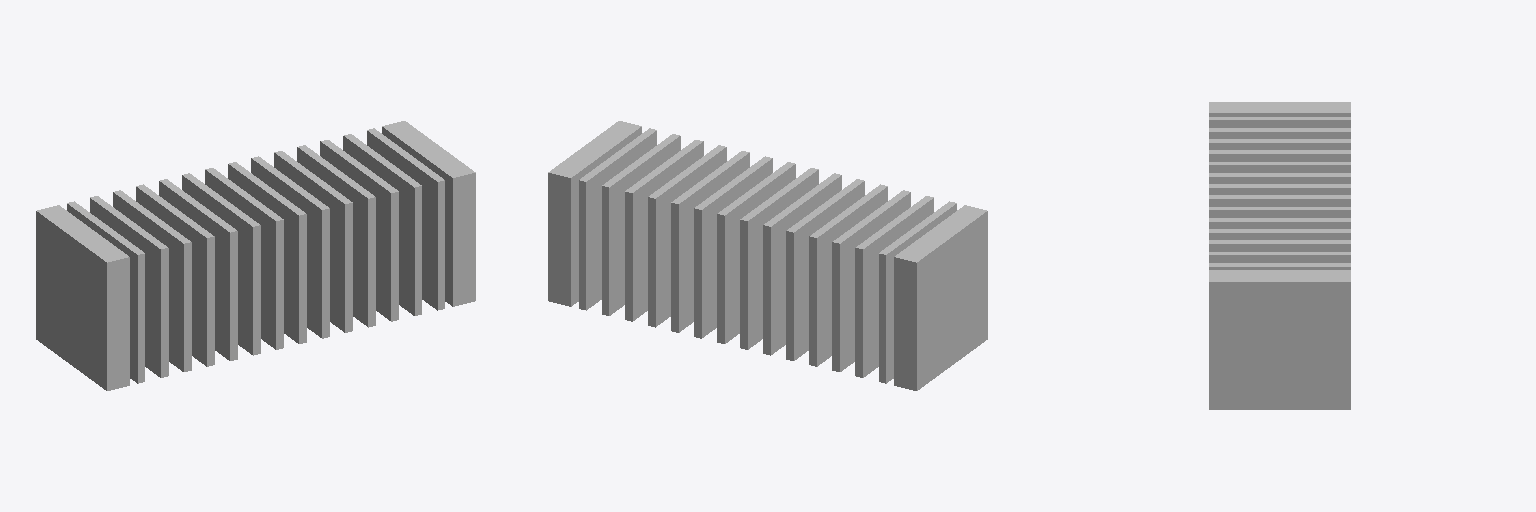
The model's file is steam_radiator.obj.
3 renders of one model, left to right at view 1: azimuth 30°, elevation 25°; view 2: azimuth 150°, elevation 25°; view 3: azimuth 270°, elevation 25°, orthographic.
Parts seen in each view (by area): view 1: cube; view 2: cube; view 3: cube.
Boxes of the visible parts, x1,y1,x2,y2 form: cube: [36, 121, 475, 390]; cube: [548, 121, 987, 390]; cube: [1209, 102, 1350, 409].
Size of the model in its own units: 3 by 1 by 1.